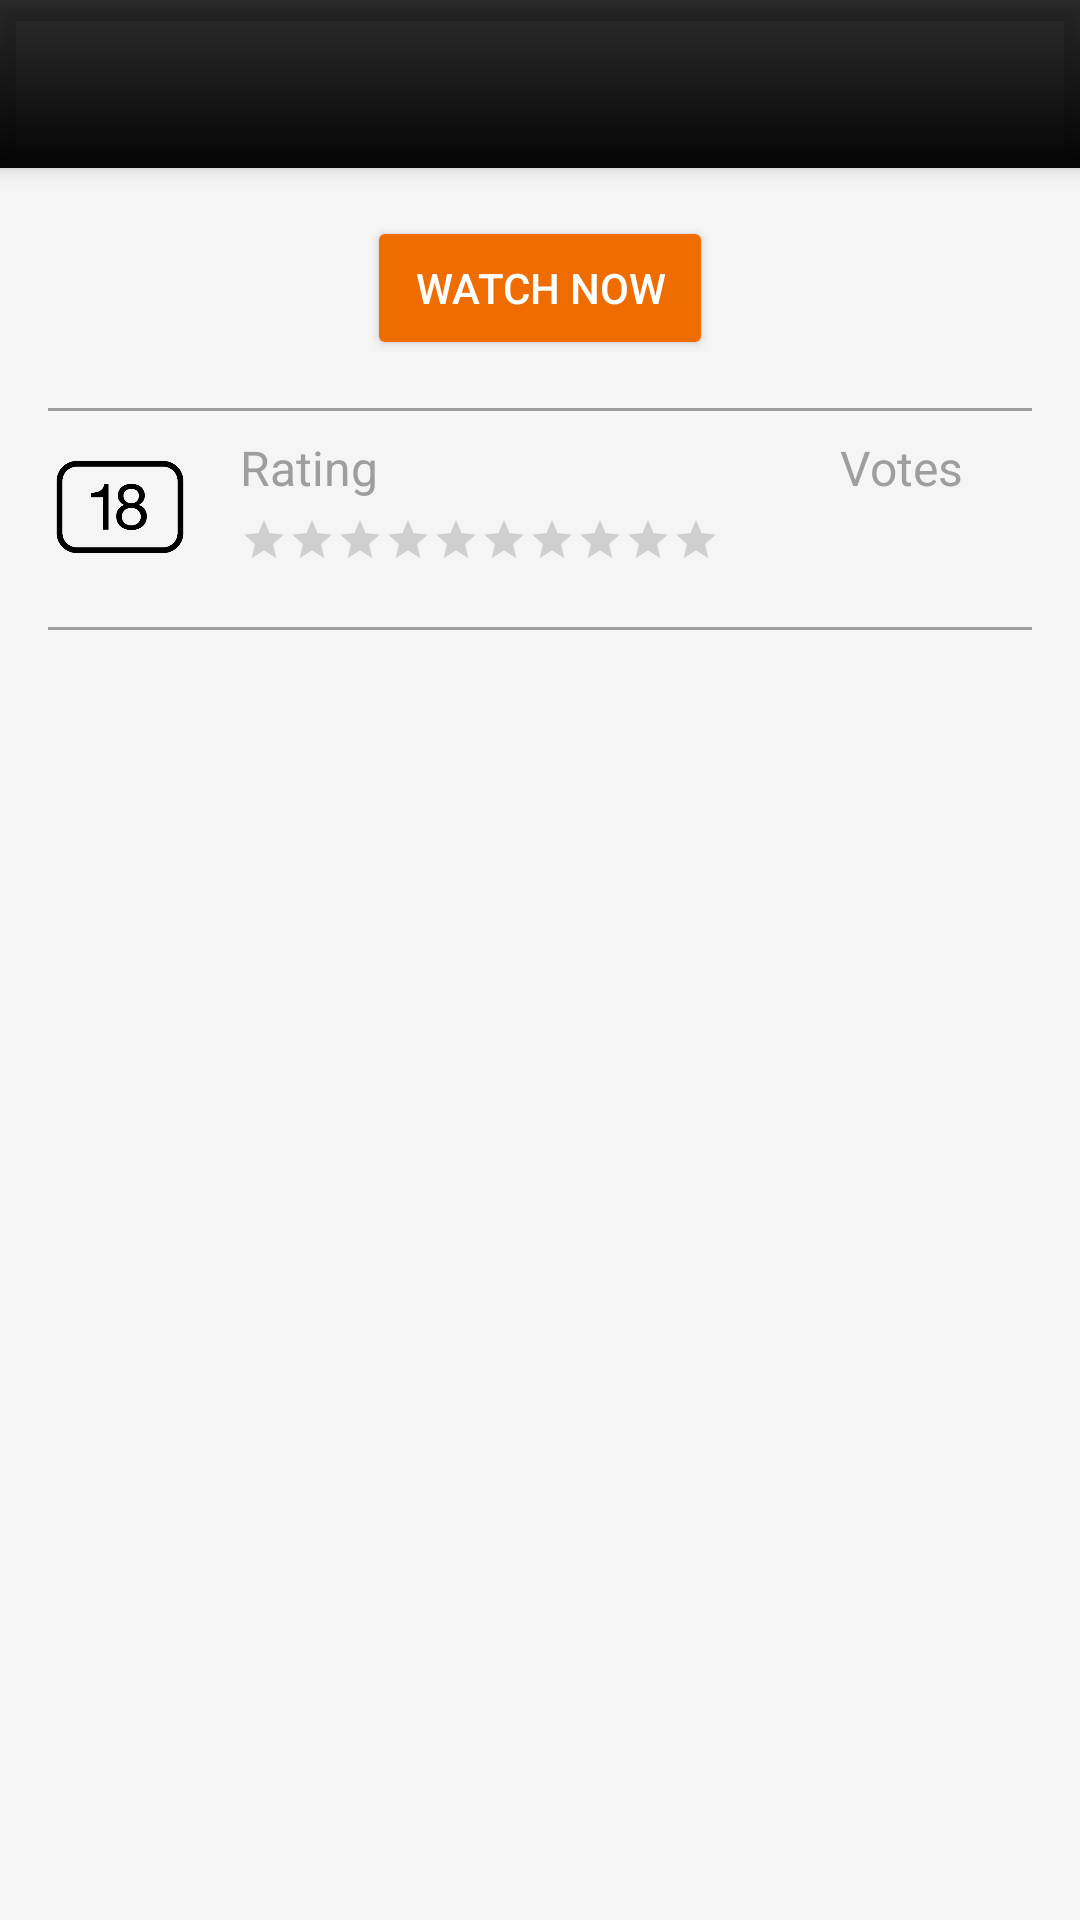

Point at icon controls on the screen. Image size 1080px x 1920px, points as [x,y].
pegi: [120,507]
